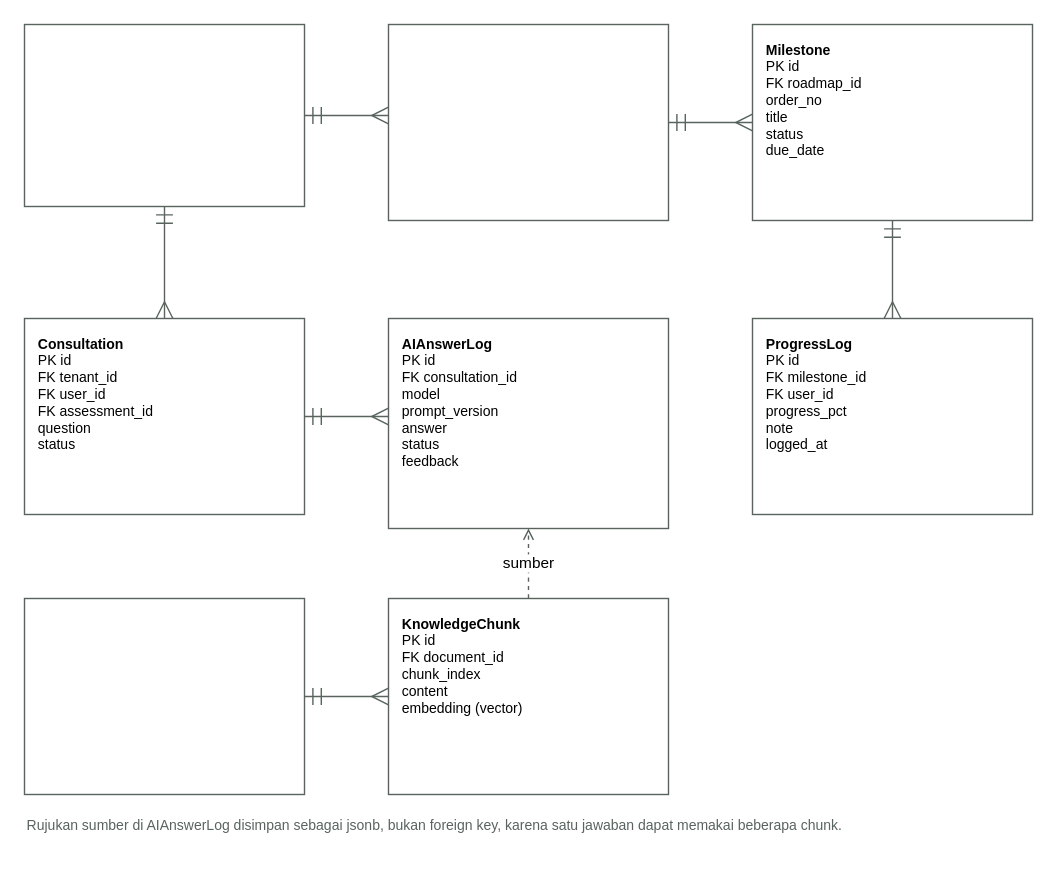
This 1057x889 diagram has some shape labels left out. Each missing label, with the centre of its shape:
Assessment PK id FK umkm_profile_id total_score FK segment_id: pixel 163 114
KnowledgeDocument PK id title source_url status version effective_date: pixel 163 695
Roadmap PK id FK assessment_id version status generated_by: pixel 527 121
